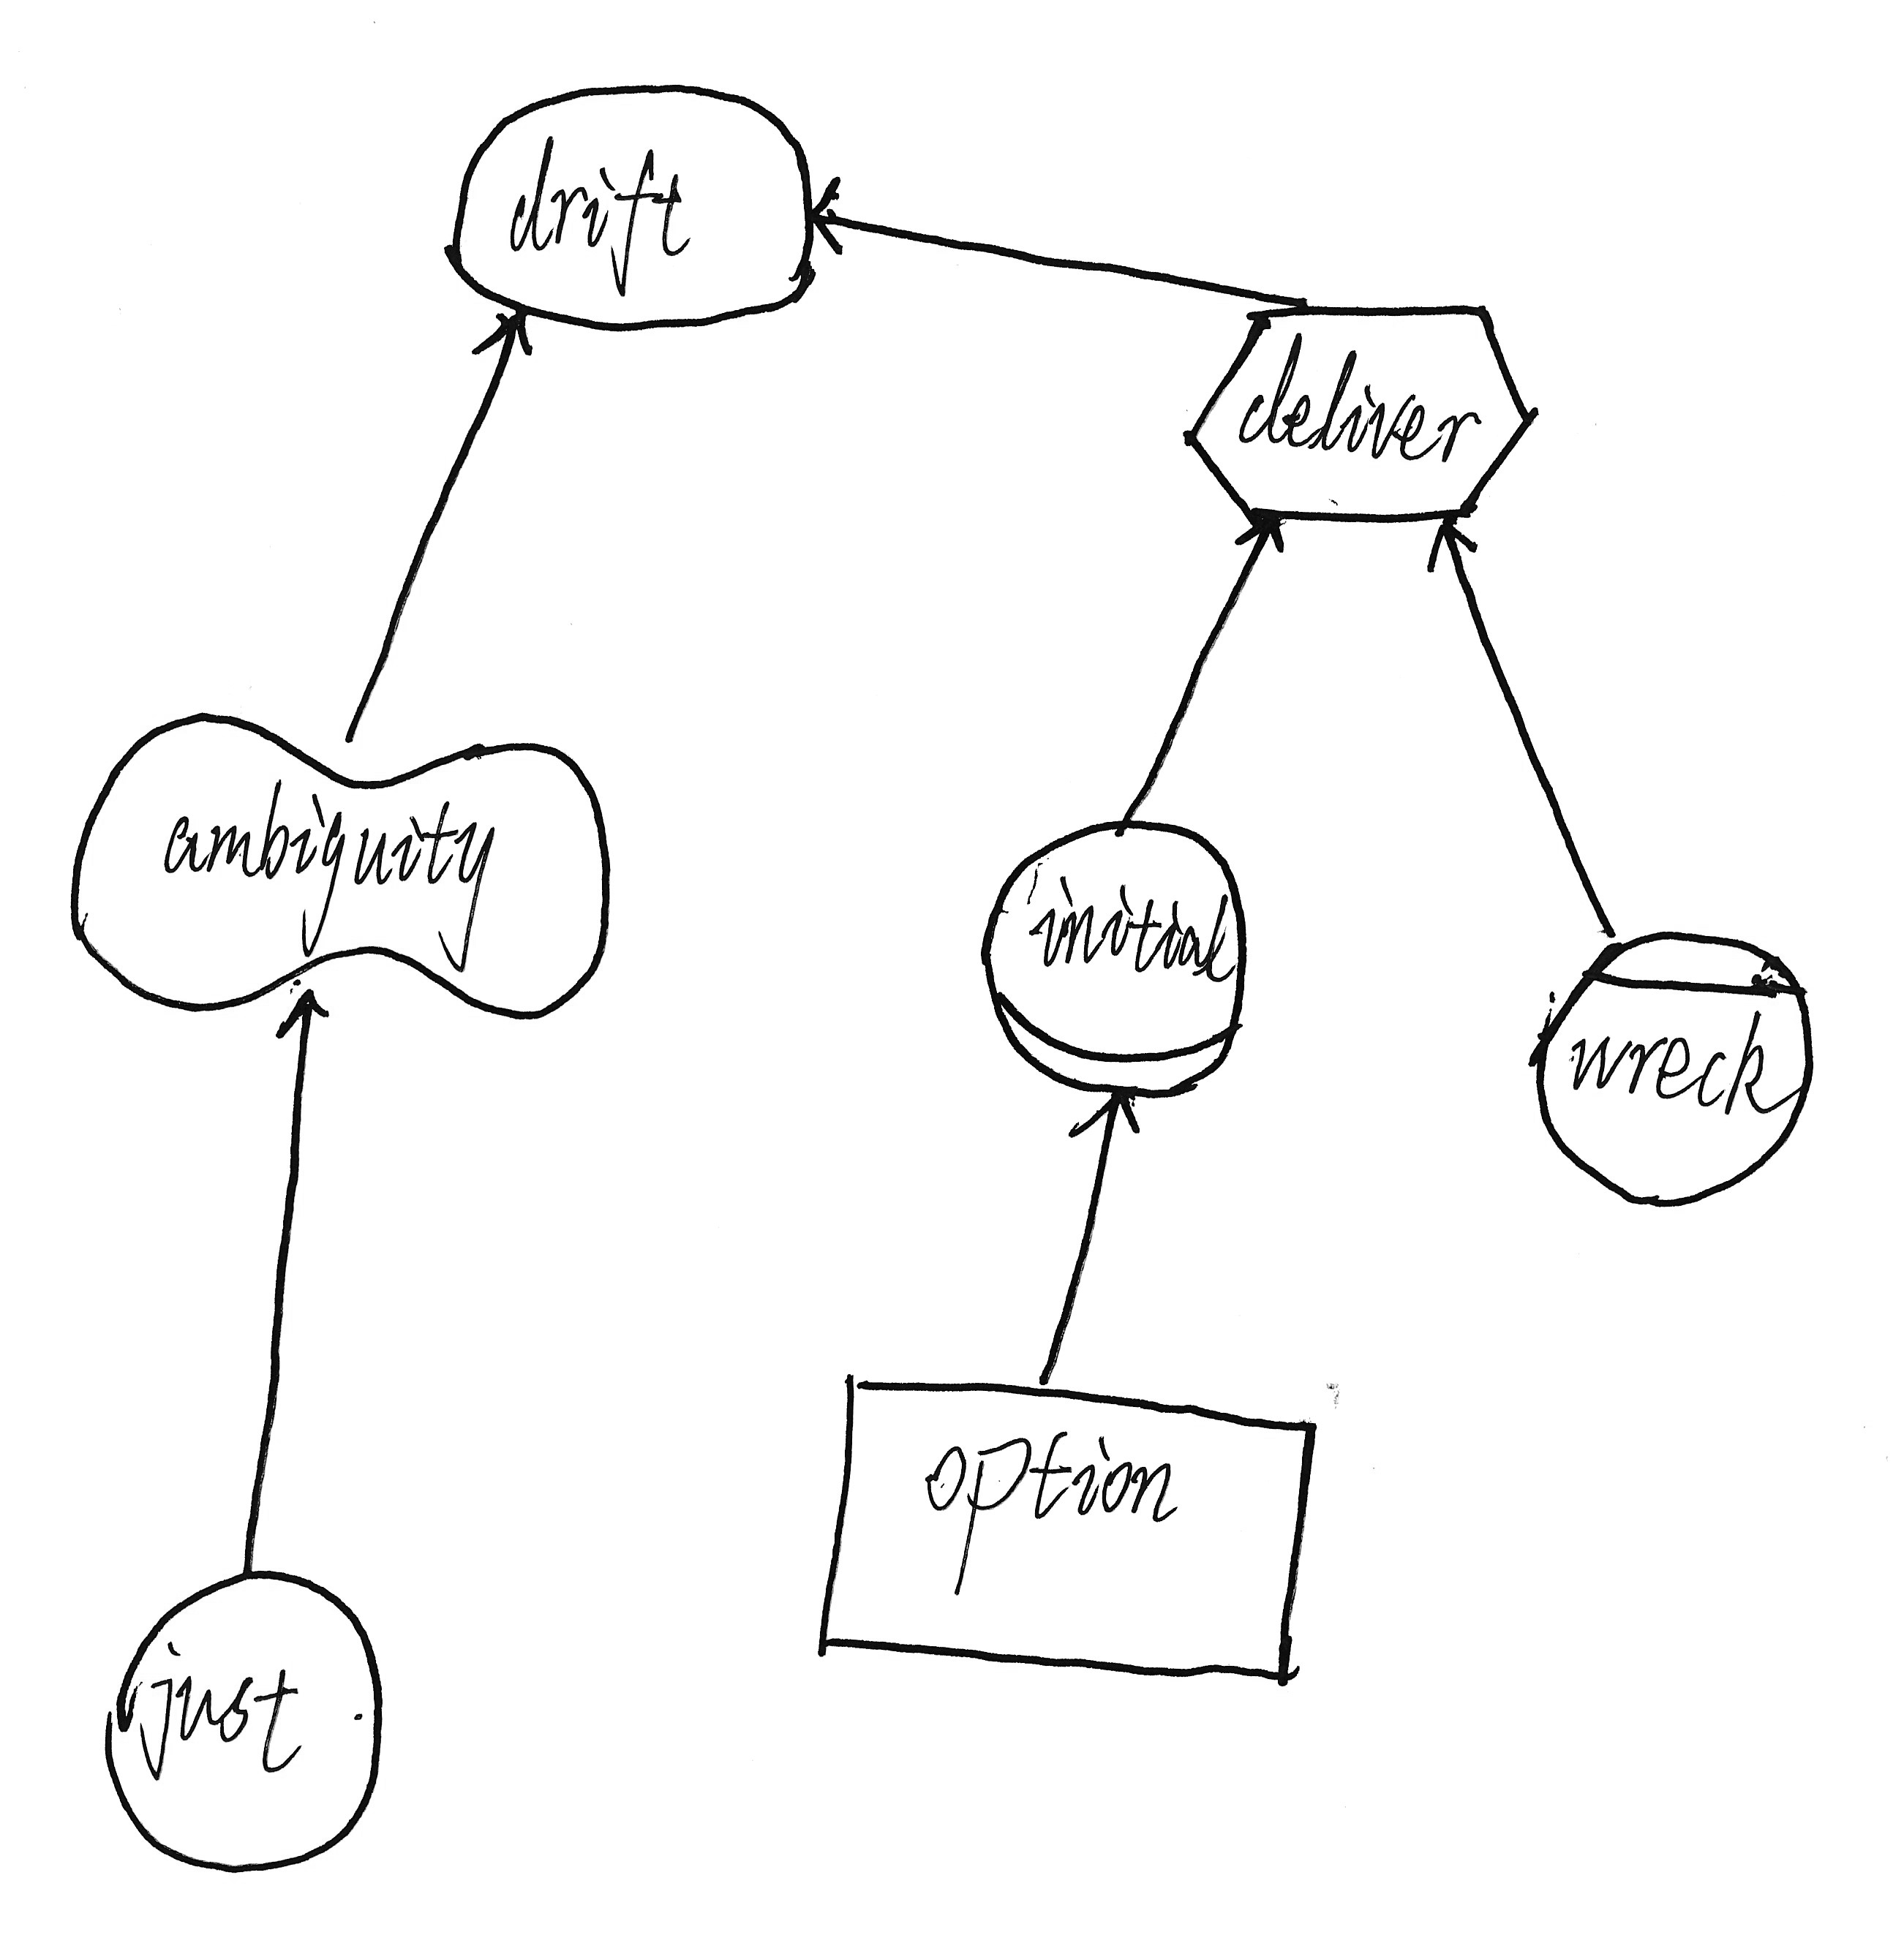actor: (86, 1547, 396, 1889)
agent: (1501, 904, 1836, 1221)
arrow: (1054, 1085, 1171, 1153), (794, 159, 857, 269), (466, 295, 548, 377), (267, 982, 344, 1066), (1412, 506, 1489, 586), (1218, 506, 1293, 569)
goal: (429, 63, 834, 354)
quality: (47, 694, 628, 1035)
resource: (791, 1350, 1339, 1703)
role: (965, 796, 1260, 1120)
task: (1166, 281, 1567, 550)
